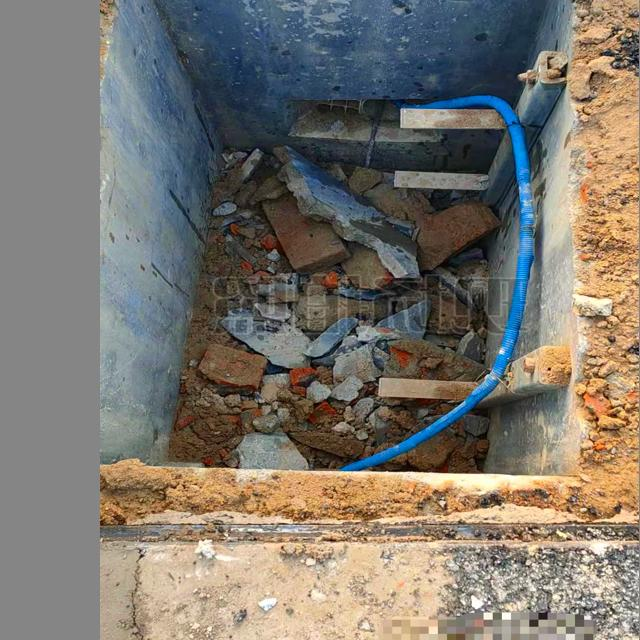lose: (100, 0, 629, 562)
